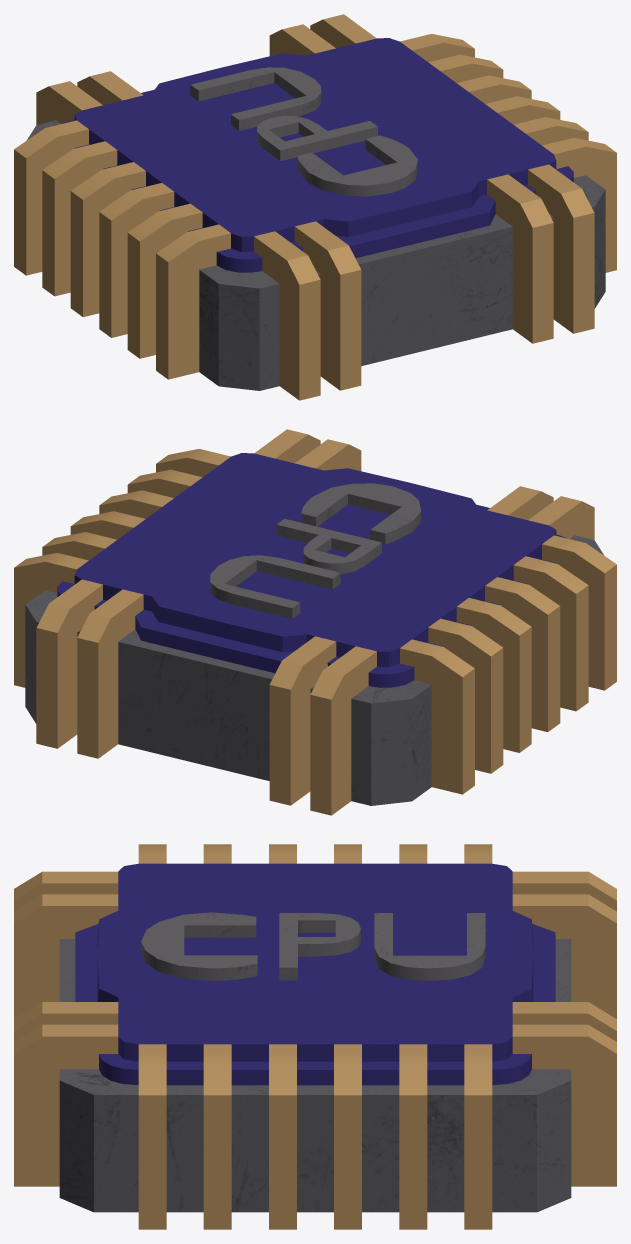
File: CPU.obj
The picture shows the model from 3 angles, top to bottom: view 1: azimuth 30°, elevation 25°; view 2: azimuth 150°, elevation 25°; view 3: azimuth 270°, elevation 25°; orthographic projection. The views are drawn at different scales.
Visible parts, largest first — view 1: Plane.001_low, Plane.002_low, Plane.003_low, Plane_low, CPU_low; view 2: Plane.001_low, Plane.002_low, Plane.003_low, Plane_low, CPU_low; view 3: Plane.001_low, Plane_low, Plane.003_low, Plane.002_low, CPU_low.
Boxes of the visible parts, x1,y1,x2,y2 form: Plane.001_low: (63, 38, 573, 272); Plane.002_low: (14, 34, 616, 379); Plane.003_low: (36, 14, 594, 400); Plane_low: (26, 120, 605, 390); CPU_low: (190, 67, 417, 196); Plane.001_low: (57, 453, 567, 687); Plane.002_low: (14, 449, 616, 794); Plane.003_low: (36, 429, 594, 815); Plane_low: (25, 535, 603, 805); CPU_low: (210, 483, 421, 618); Plane.001_low: (75, 863, 555, 1085); Plane_low: (59, 939, 571, 1212); Plane.003_low: (14, 871, 616, 1186); Plane.002_low: (138, 844, 492, 1229); CPU_low: (141, 912, 485, 980).
Bounding box in the file's own units: 0.862 × 0.2605 × 0.8751.
1 material, 1 textured.
